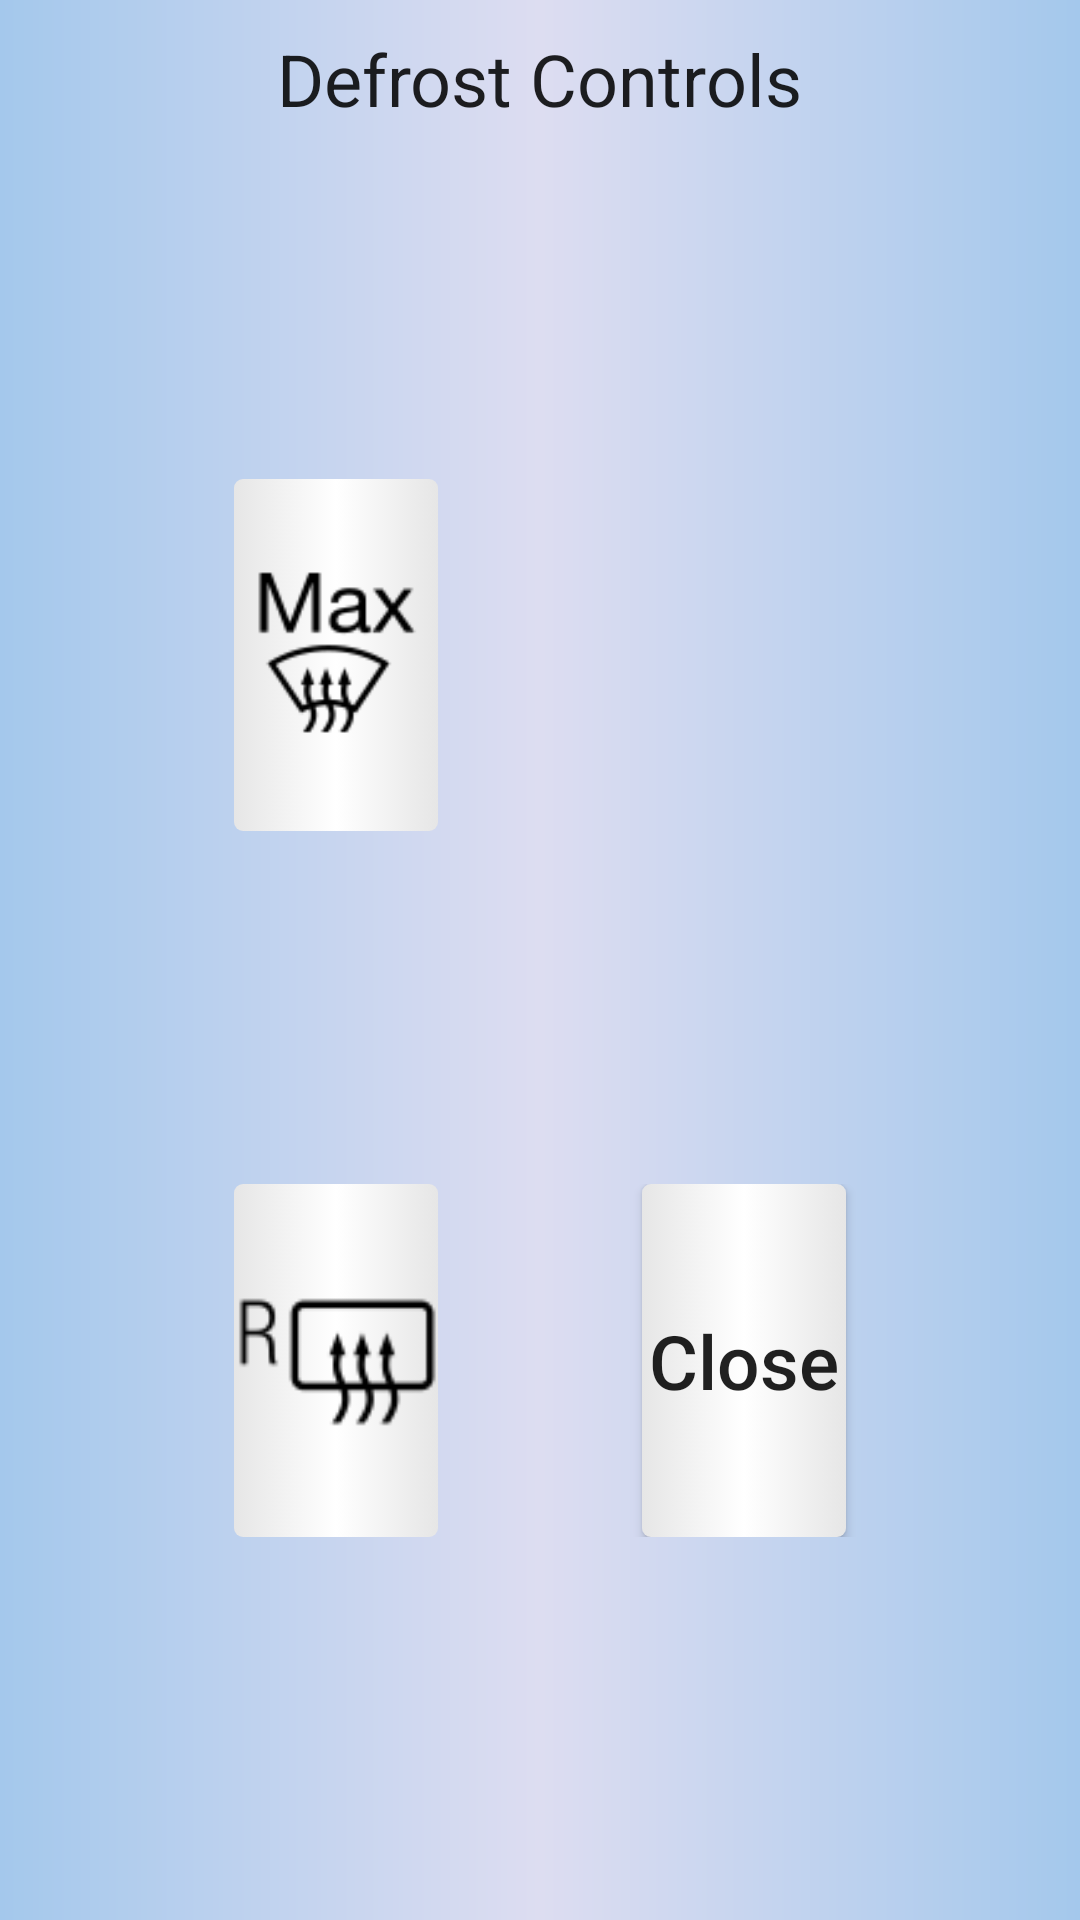

Icons on this 1080 x 1920 Android screen, each with its box as (x1, y1, x2, y2):
max defrost: (234, 479, 438, 831)
rear defrost: (234, 1184, 438, 1537)
